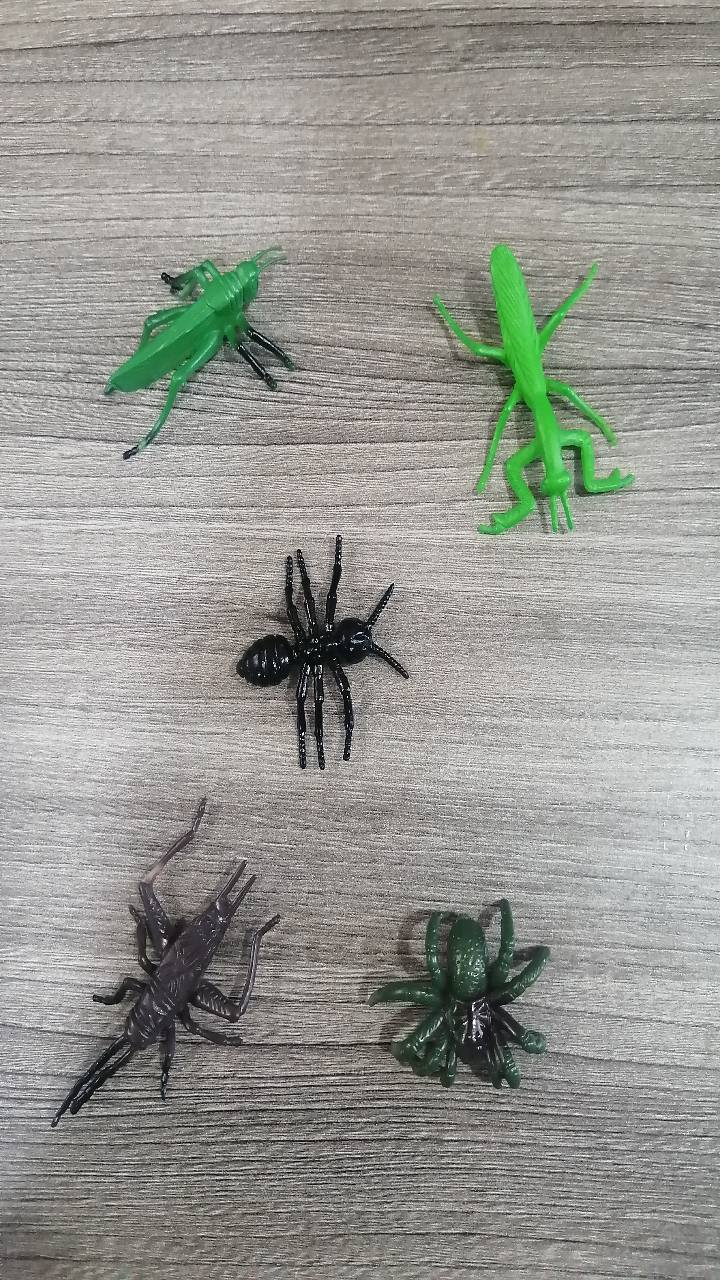intruso: (29, 777, 288, 1123), (394, 212, 641, 557), (206, 509, 432, 786), (72, 203, 312, 463), (344, 851, 574, 1117)
